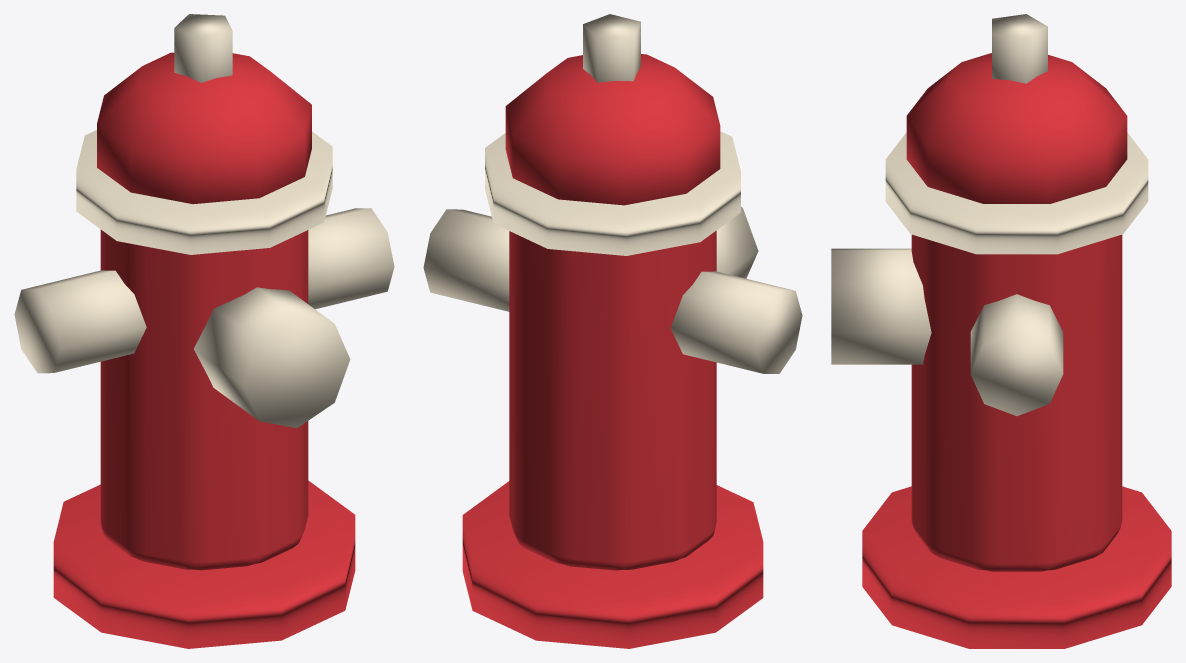
Rendered from city_hydrant.glb.
3 views of the same model, side by side, from view 1: azimuth 30°, elevation 25°; view 2: azimuth 150°, elevation 25°; view 3: azimuth 270°, elevation 25° (orthographic).
Visible parts, largest first — view 1: Hydrant; view 2: Hydrant; view 3: Hydrant.
Part boxes in pixels (box(x1,y1,x2,y2)): Hydrant: box(14, 14, 394, 648); Hydrant: box(423, 14, 802, 648); Hydrant: box(831, 14, 1171, 648).
Size of the model in its own units: 0.5 by 0.8 by 0.44.
